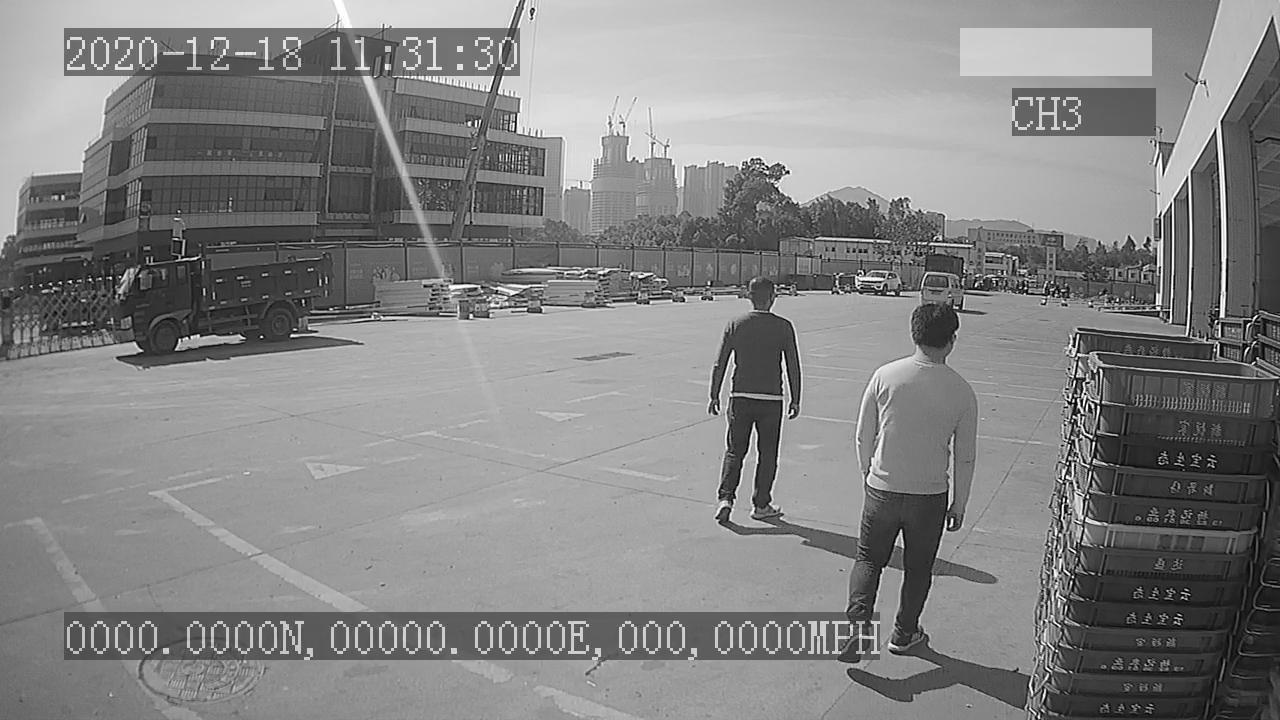person: (856, 300, 978, 534), (704, 272, 805, 526)
